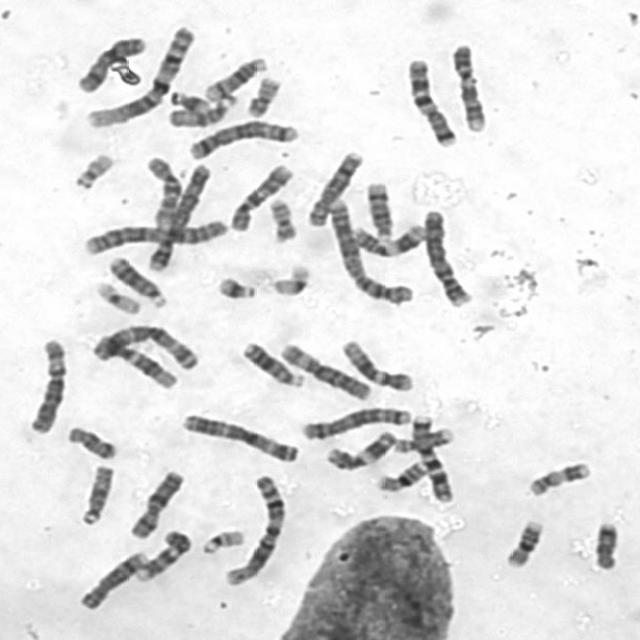A1: (81, 20, 199, 130), (218, 470, 290, 588)
A2: (324, 195, 416, 307), (79, 212, 231, 256)
A3: (177, 408, 303, 464), (87, 319, 202, 373)
B4: (140, 159, 213, 274), (418, 203, 474, 309)
B5: (184, 115, 302, 162), (297, 401, 414, 441)
C10: (224, 158, 296, 233), (142, 151, 185, 224)
C11: (322, 426, 398, 472), (348, 219, 427, 259)
C12: (93, 329, 180, 391), (336, 334, 416, 393)
C6: (274, 339, 374, 402), (22, 333, 69, 436)
C7: (401, 53, 460, 148), (408, 408, 455, 504)
C8: (302, 145, 366, 229), (73, 546, 151, 612)
C9: (447, 38, 489, 134), (132, 526, 196, 584)
D13: (104, 250, 171, 308), (239, 336, 309, 388)
D14: (201, 52, 269, 102), (361, 176, 397, 241)
D15: (162, 88, 240, 129), (75, 460, 116, 528)
E16: (499, 514, 546, 569), (371, 456, 431, 493)
E17: (522, 456, 594, 498), (390, 423, 457, 455)
E18: (61, 420, 120, 461), (588, 516, 623, 572)
F19: (90, 276, 144, 316), (264, 260, 314, 298)
F20: (242, 72, 284, 119), (263, 193, 300, 244)
G21: (212, 272, 259, 302), (166, 86, 212, 115)
G22: (68, 147, 116, 192), (196, 524, 246, 556)
X: (123, 465, 187, 541), (73, 31, 149, 94)
